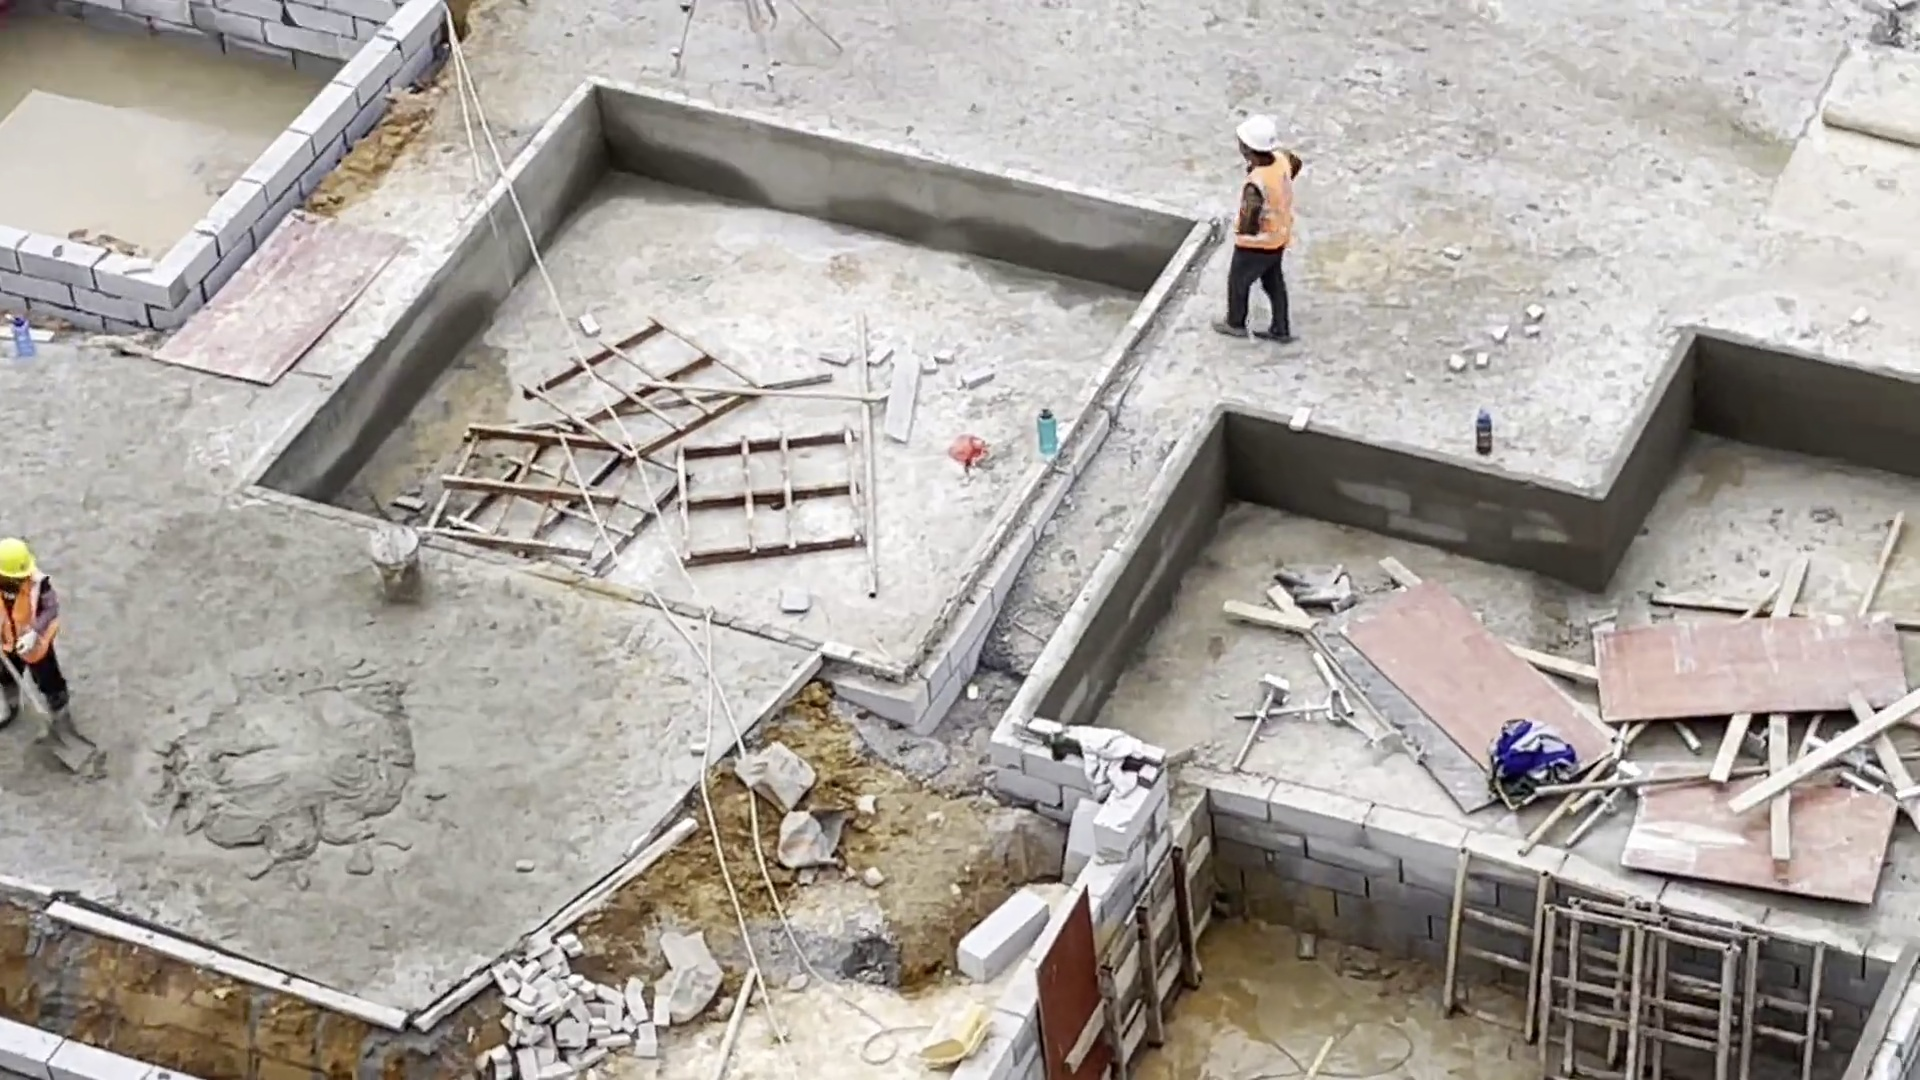helmet: (1236, 113, 1282, 157)
person: (1215, 112, 1311, 352), (1, 525, 80, 754)
vest: (1237, 154, 1298, 255), (1, 583, 66, 670)
